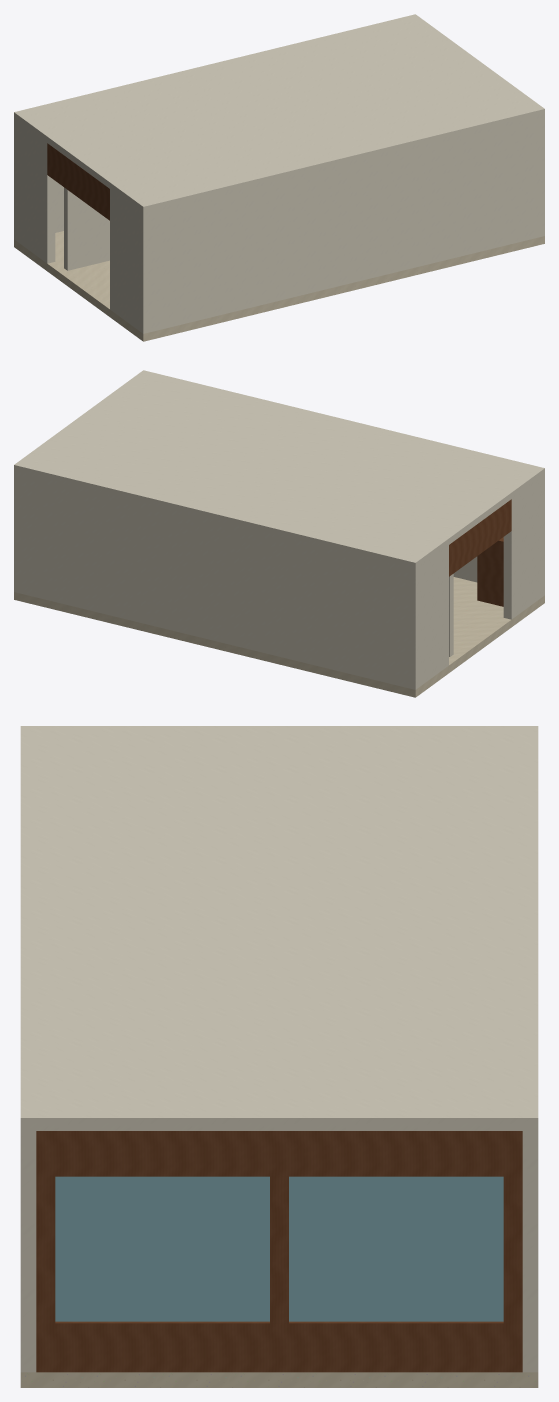
The model's file is TIDAL_SPECIALTY_D13_138_r001.glb.
The picture shows the model from 3 angles, top to bottom: view 1: azimuth 30°, elevation 25°; view 2: azimuth 150°, elevation 25°; view 3: azimuth 270°, elevation 25°; orthographic projection. The views are drawn at different scales.
Parts seen in each view (by area): view 1: TQ138_Ceiling, TQ138_SouthWall, TQ138_Floor, TQ138_FrontWall_0, TQ138_FrontWall_1, TQ138_WashSouth_1, TQ138_EntryLintel, TQ138_NorthWall; view 2: TQ138_Ceiling, TQ138_NorthWall, TQ138_Floor, TQ138_FrontWall_1, TQ138_FrontWall_0, TQ138_EntryLintel, TQ138_ServiceSide_-296.32, TQ138_SouthWall, TQ138_WashSouth_1; view 3: TQ138_Ceiling, TQ138_CourtGlass_0, TQ138_CourtGlass_1, TQ138_WestSill, TQ138_WestHeader, TQ138_Floor, TQ138_NorthWall, TQ138_SouthWall, TQ138_WestPier_0, TQ138_WestPier_2, TQ138_WestPier_1.
Part boxes in pixels (left/top/right/bottom): TQ138_Ceiling: left=14, top=14, right=544, bottom=213; TQ138_SouthWall: left=139, top=115, right=544, bottom=333; TQ138_Floor: left=14, top=231, right=544, bottom=341; TQ138_FrontWall_0: left=18, top=122, right=55, bottom=263; TQ138_FrontWall_1: left=110, top=189, right=139, bottom=330; TQ138_WashSouth_1: left=64, top=187, right=109, bottom=270; TQ138_EntryLintel: left=47, top=143, right=109, bottom=220; TQ138_NorthWall: left=14, top=119, right=63, bottom=241; TQ138_Ceiling: left=14, top=370, right=544, bottom=569; TQ138_NorthWall: left=14, top=471, right=419, bottom=689; TQ138_Floor: left=14, top=577, right=544, bottom=697; TQ138_FrontWall_1: left=503, top=478, right=540, bottom=619; TQ138_FrontWall_0: left=419, top=545, right=448, bottom=686; TQ138_EntryLintel: left=449, top=499, right=511, bottom=576; TQ138_ServiceSide_-296.32: left=477, top=540, right=503, bottom=605; TQ138_SouthWall: left=453, top=475, right=544, bottom=597; TQ138_WashSouth_1: left=449, top=574, right=453, bottom=656; TQ138_Ceiling: left=20, top=726, right=538, bottom=1130; TQ138_CourtGlass_0: left=289, top=1176, right=503, bottom=1321; TQ138_CourtGlass_1: left=55, top=1176, right=269, bottom=1321; TQ138_WestSill: left=36, top=1321, right=522, bottom=1372; TQ138_WestHeader: left=36, top=1131, right=522, bottom=1176; TQ138_Floor: left=20, top=1372, right=538, bottom=1387; TQ138_NorthWall: left=522, top=1131, right=538, bottom=1372; TQ138_SouthWall: left=20, top=1131, right=36, bottom=1372; TQ138_WestPier_0: left=503, top=1176, right=522, bottom=1323; TQ138_WestPier_2: left=36, top=1176, right=55, bottom=1323; TQ138_WestPier_1: left=270, top=1176, right=288, bottom=1323.
Bounding box in the file's own units: 12.9 × 4.14 × 7.2.
7 materials, 5 textured.
